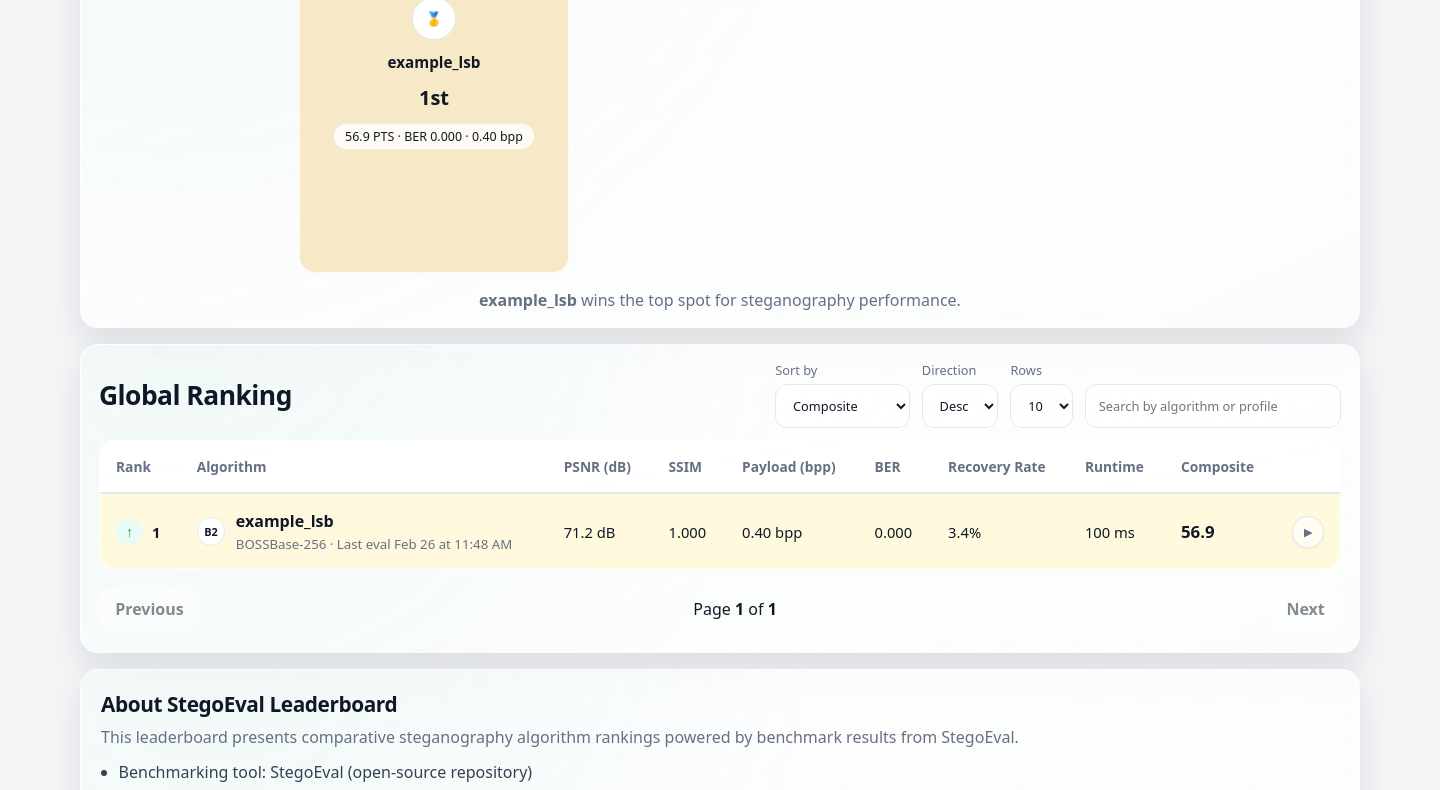
Test case: LLM Leaderboard UI › shows empty state when search has no match
The width and height of the screenshot is (1440, 790).
(page scrolled)
expect the heading "Global Ranking" is shown: met, box [99,377,292,413]
In the search field named "Search algorithms": (1213, 406) [1085,384,1341,428], type "no-such-algorithm"
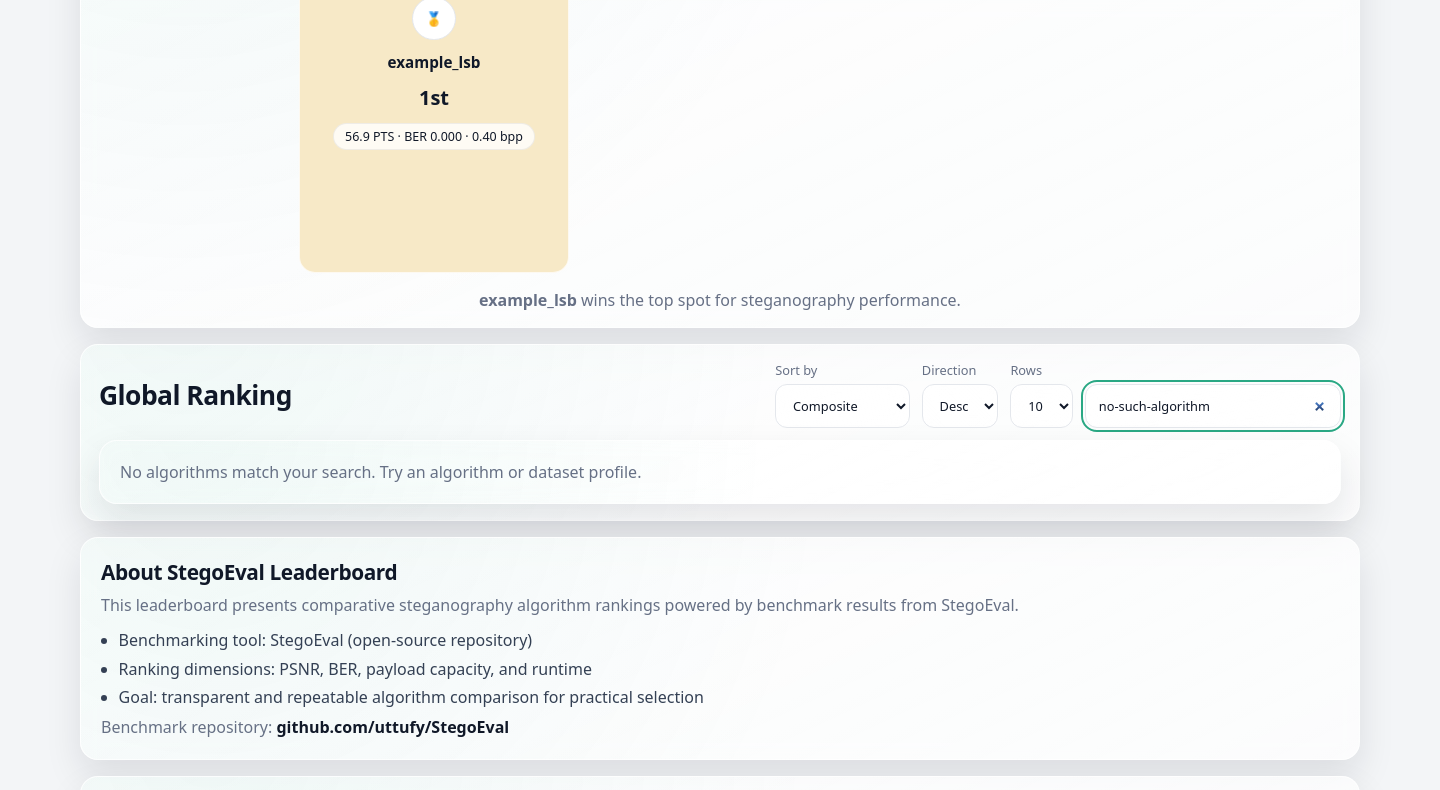
expect the text "No algorithms match your search. Try an algorithm or dataset profile." is shown: met, box [99,440,1341,504]
